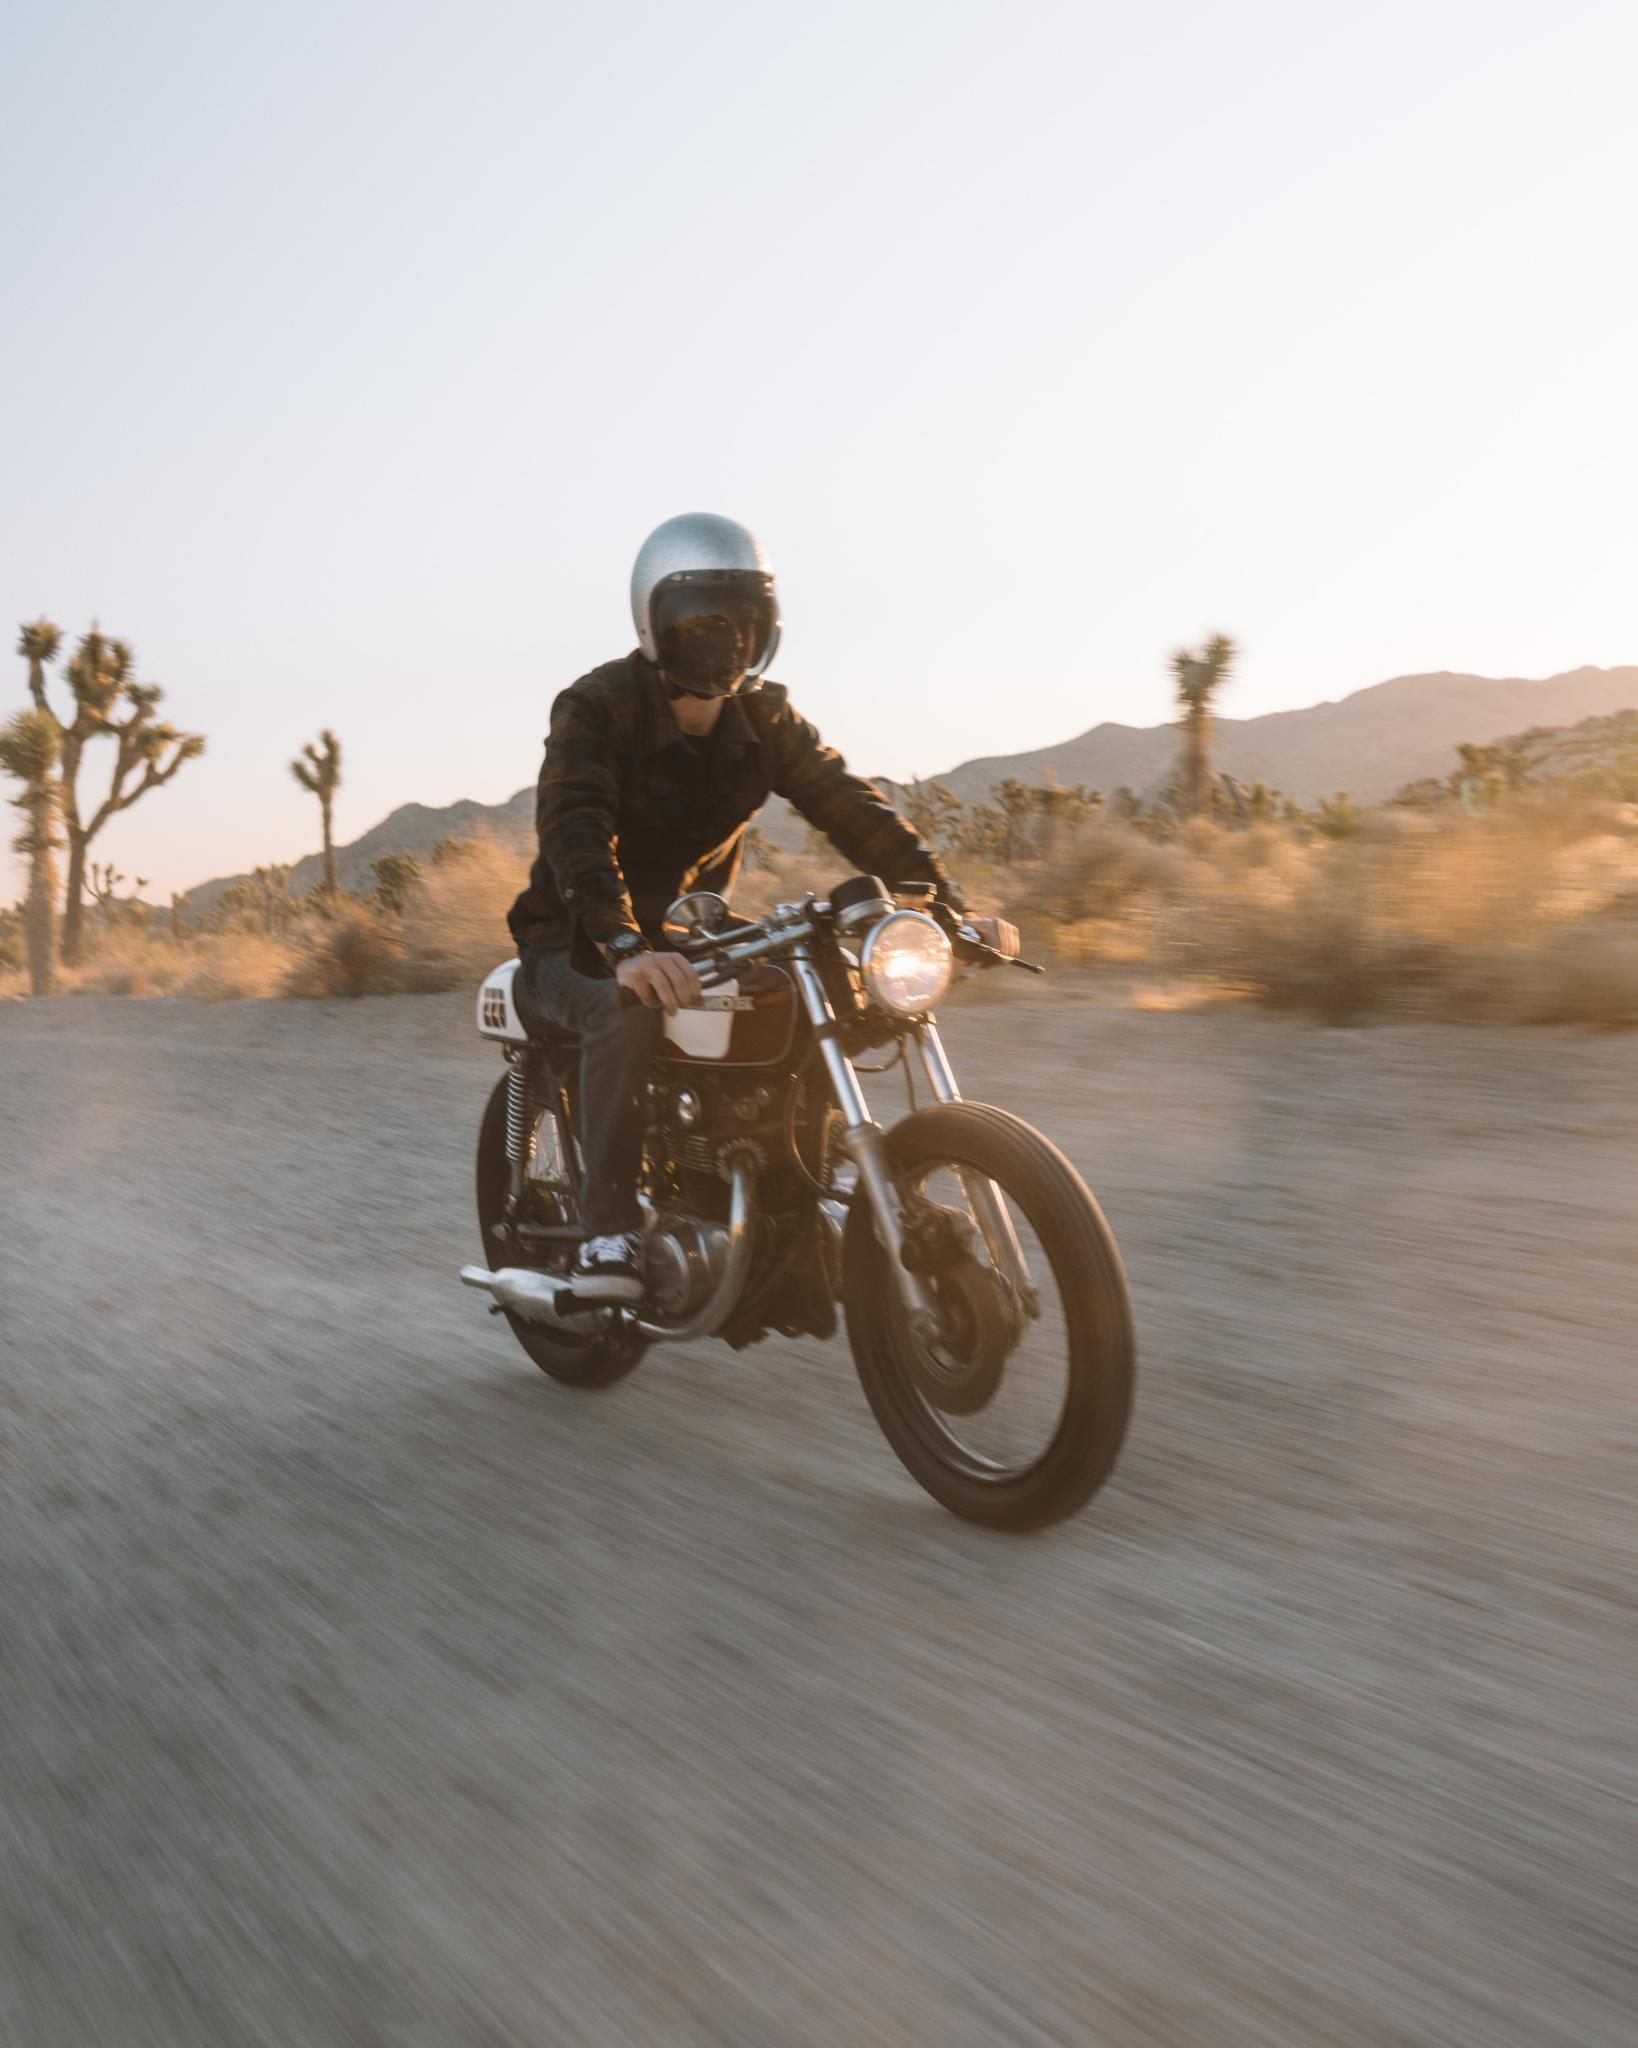motorcycle: (440, 771, 1153, 1543)
